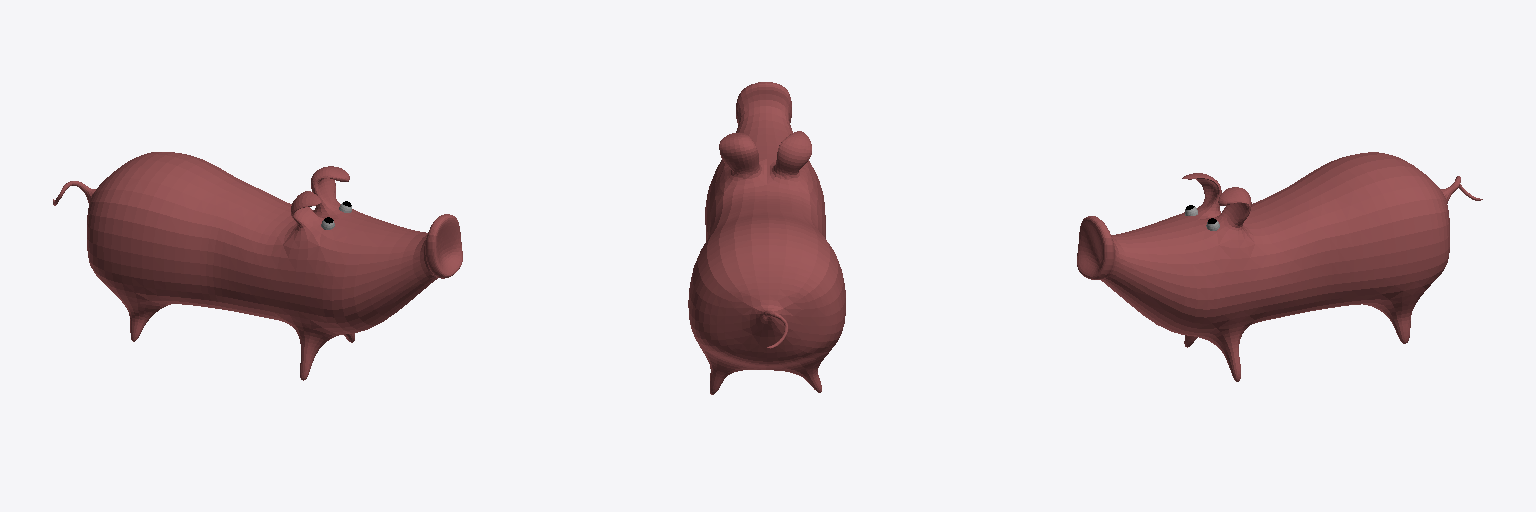
The model's file is pig.obj.
3 views of the same model, side by side, from view 1: azimuth 30°, elevation 25°; view 2: azimuth 150°, elevation 25°; view 3: azimuth 270°, elevation 25° (orthographic).
Parts seen in each view (by area): view 1: pig; view 2: pig; view 3: pig.
Part boxes in pixels (left/top/right/bottom): pig: left=53, top=152, right=462, bottom=380; pig: left=688, top=82, right=845, bottom=394; pig: left=1077, top=152, right=1482, bottom=381.
Size of the model in its own units: 51.61 by 38.18 by 77.12.